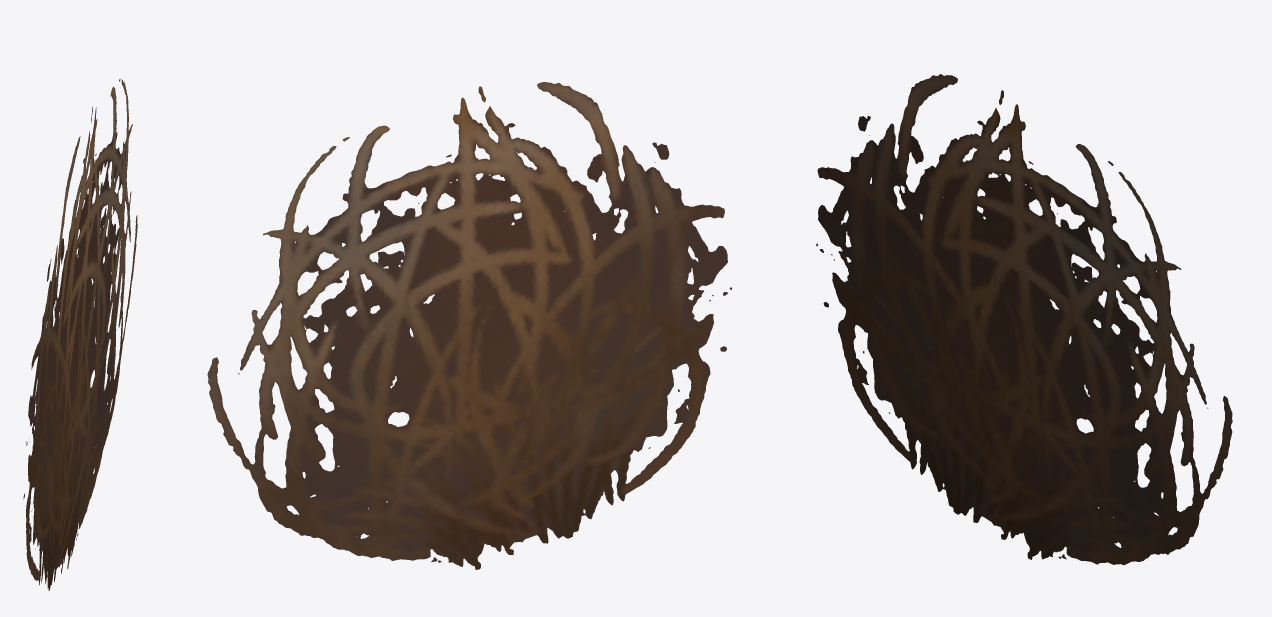
Rendered from tumble1_003.fbx.
3 views of the same model, side by side, from view 1: azimuth 30°, elevation 25°; view 2: azimuth 150°, elevation 25°; view 3: azimuth 270°, elevation 25° (orthographic).
Visible parts, largest first — view 1: tumble1.003; view 2: tumble1.003; view 3: tumble1.003.
Boxes of the visible parts, bbox=[...] form: tumble1.003: bbox=[23, 79, 137, 590]; tumble1.003: bbox=[207, 82, 731, 569]; tumble1.003: bbox=[816, 74, 1232, 564].
Size of the model in its own units: 109 by 160 by 119.
